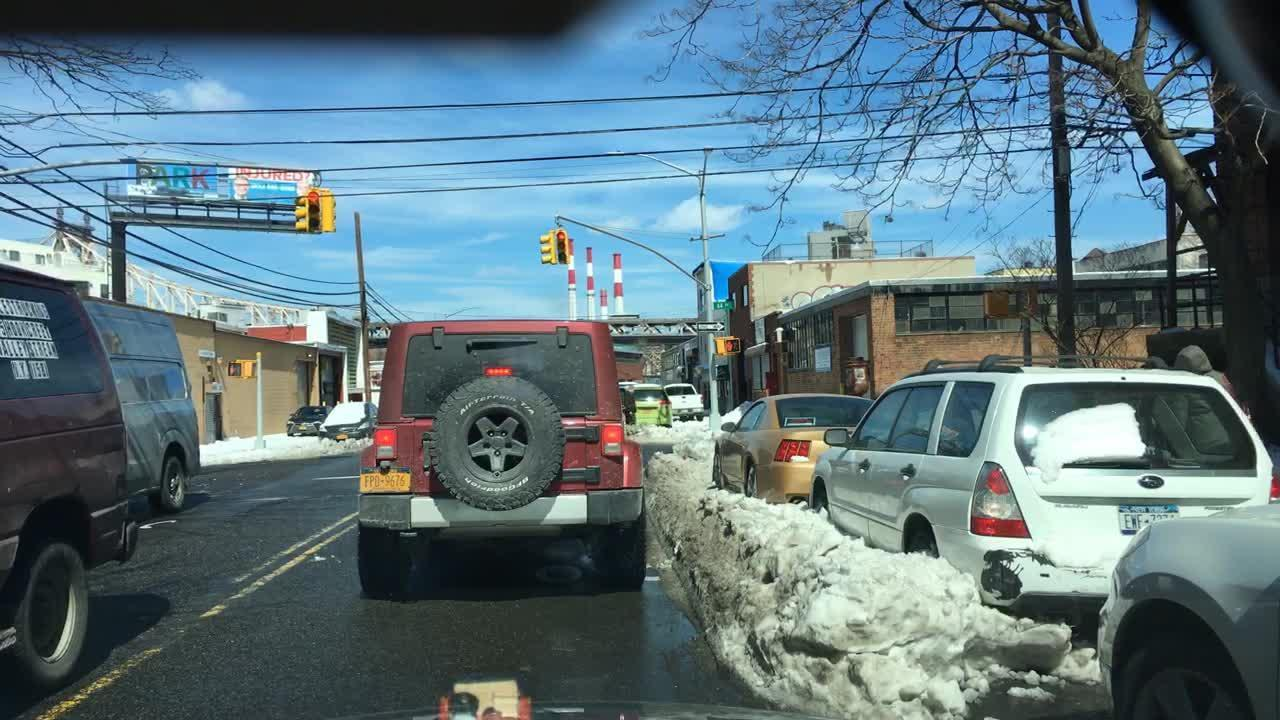subaru: (1136, 473, 1173, 492)
